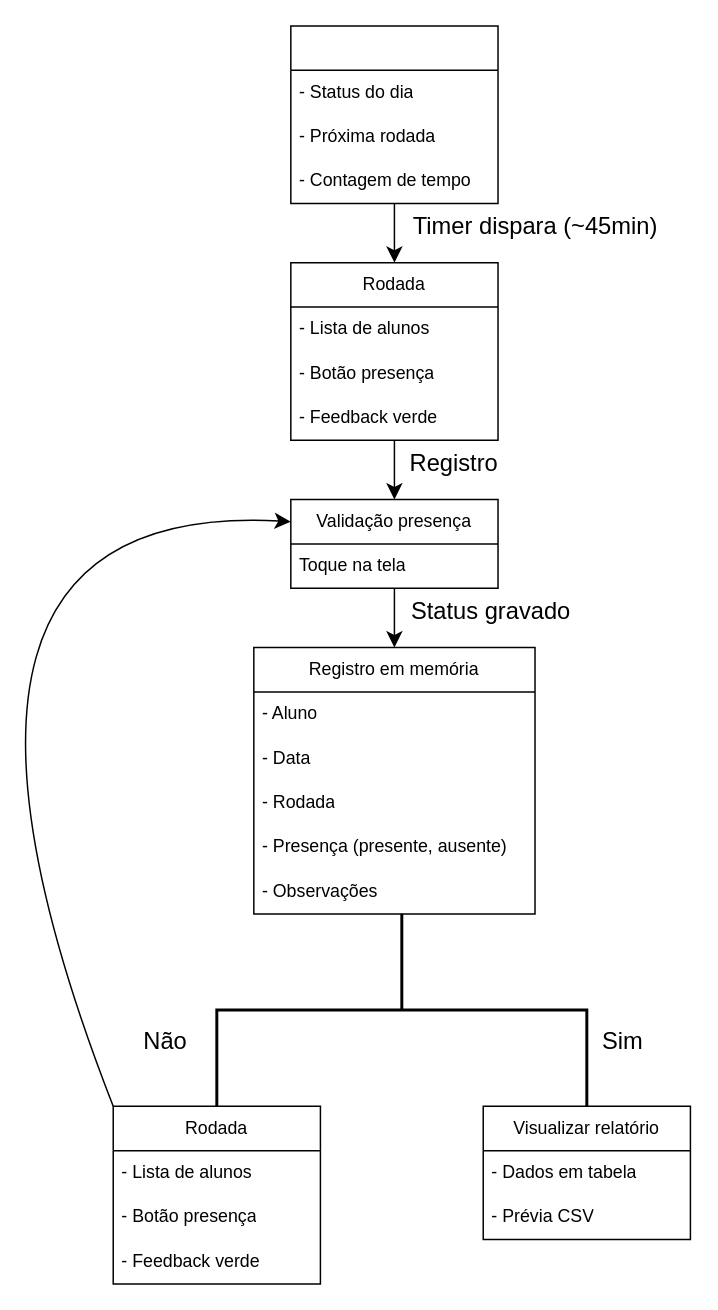
Some shapes in this 718 by 1310 pixel diagram are drawn without their labels. Each missing label, with the box of its shape:
Dashboard: (289, 24, 498, 204)
Último registro?: (215, 912, 588, 1107)
